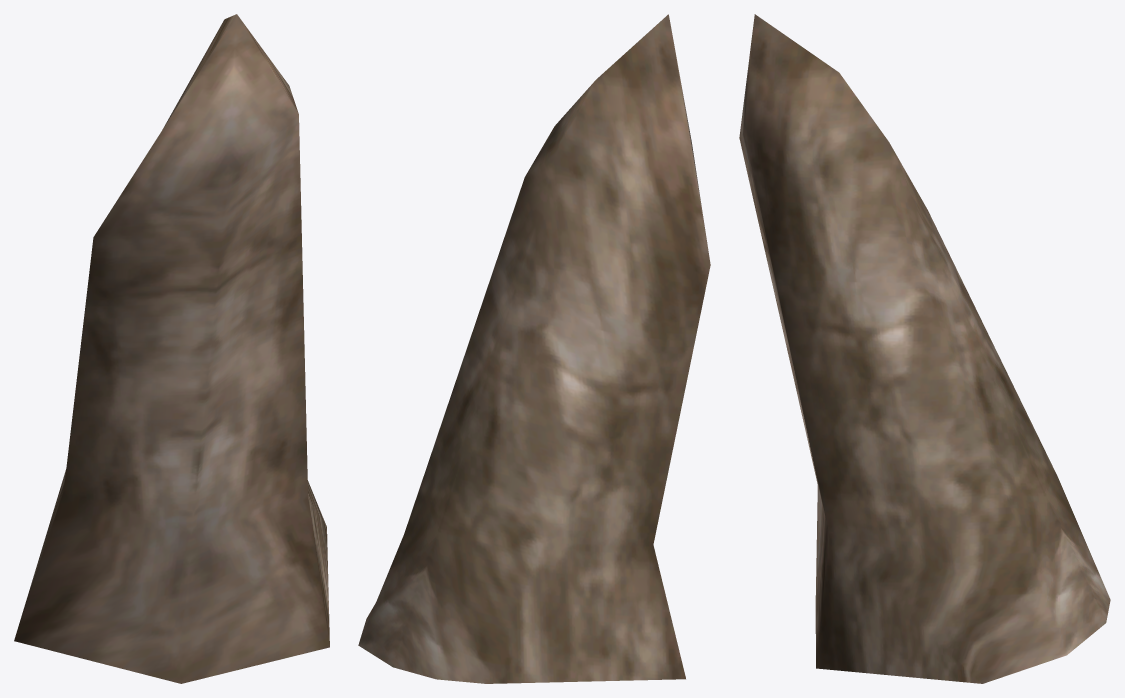
Rendered from OVERHILL_A_01_ROCK30.fbx.
3 views of the same model, side by side, from view 1: azimuth 30°, elevation 25°; view 2: azimuth 150°, elevation 25°; view 3: azimuth 270°, elevation 25° (orthographic). The views are drawn at different scales.
Visible parts, largest first — view 1: OVERHILL_A_01_ROCK30; view 2: OVERHILL_A_01_ROCK30; view 3: OVERHILL_A_01_ROCK30.
Part boxes in pixels (x1=…): OVERHILL_A_01_ROCK30: x1=14, y1=14, x2=329, y2=683; OVERHILL_A_01_ROCK30: x1=358, y1=14, x2=710, y2=683; OVERHILL_A_01_ROCK30: x1=739, y1=14, x2=1110, y2=683.
Size of the model in its own units: 21358 by 41105 by 23044.
Materials: 1 (1 with a texture image).
